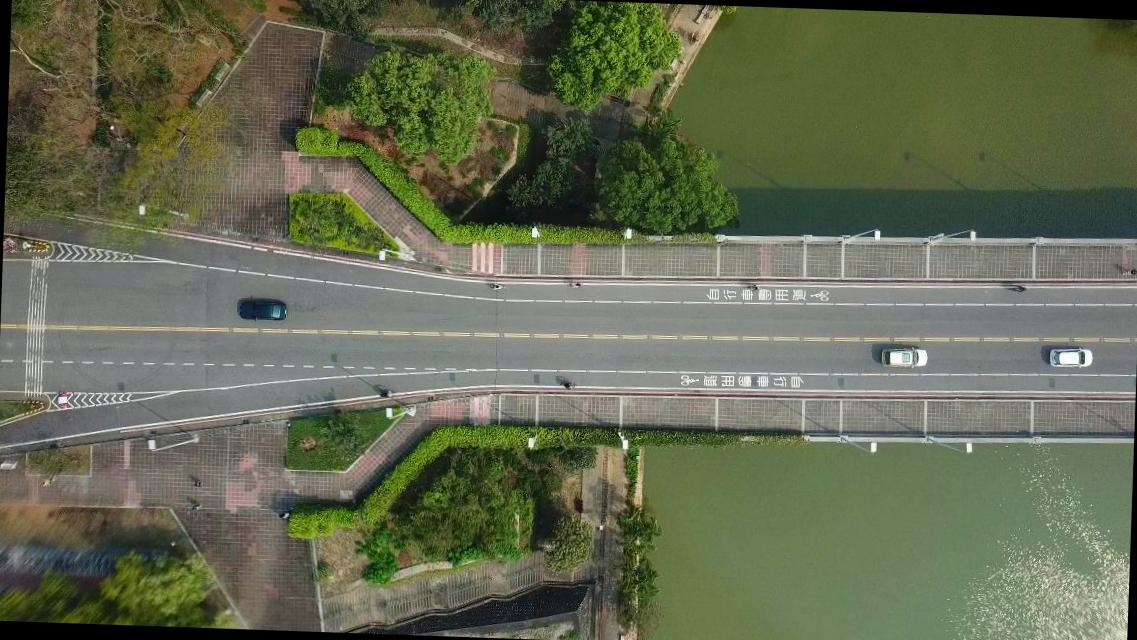vehicle: (1048, 346, 1092, 370), (881, 346, 926, 368), (239, 300, 286, 320)
